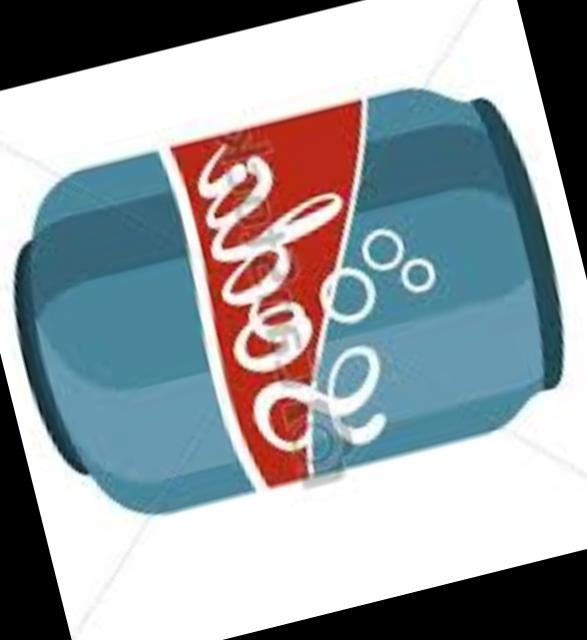metal: (22, 94, 566, 517)
